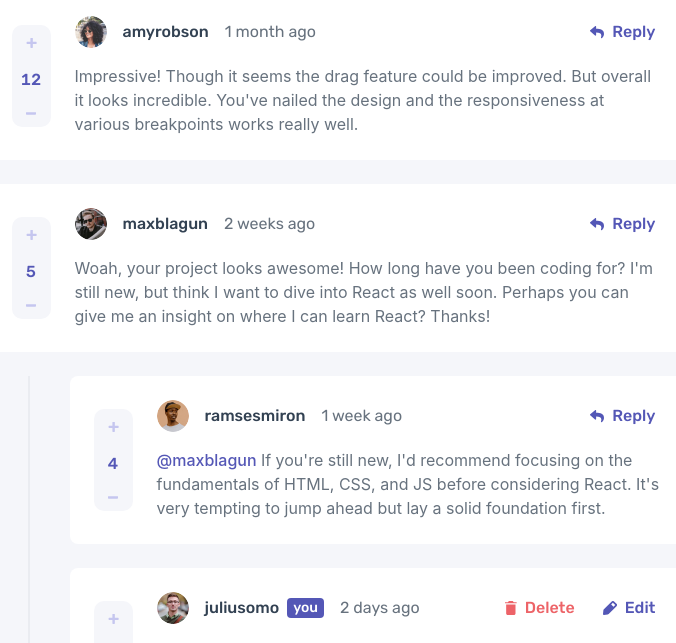
Test: App › upvoting twice undoes the vote
Click the button named "Upvote" next to "amyrobson": [31, 42] box [20,33,42,52]
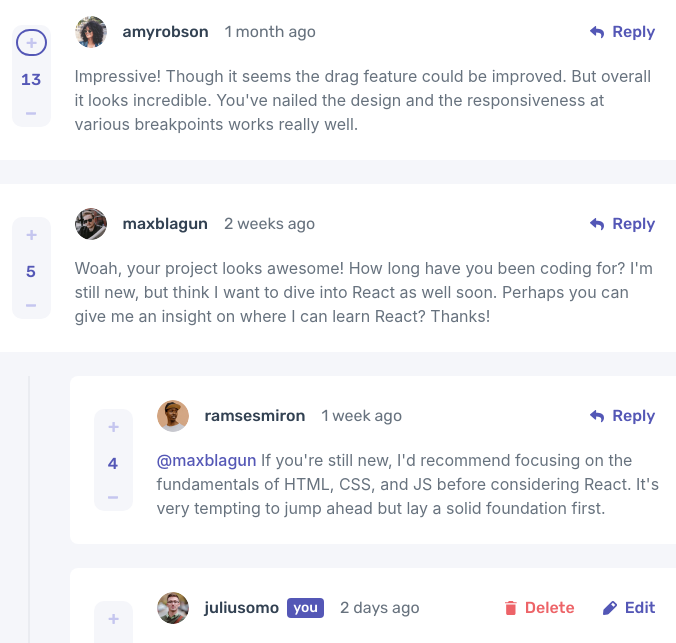
Expected: the text "13" is shown, [20,68,42,92]
Click the button named "Upvote" next to "amyrobson": [31, 42] box [20,33,42,52]
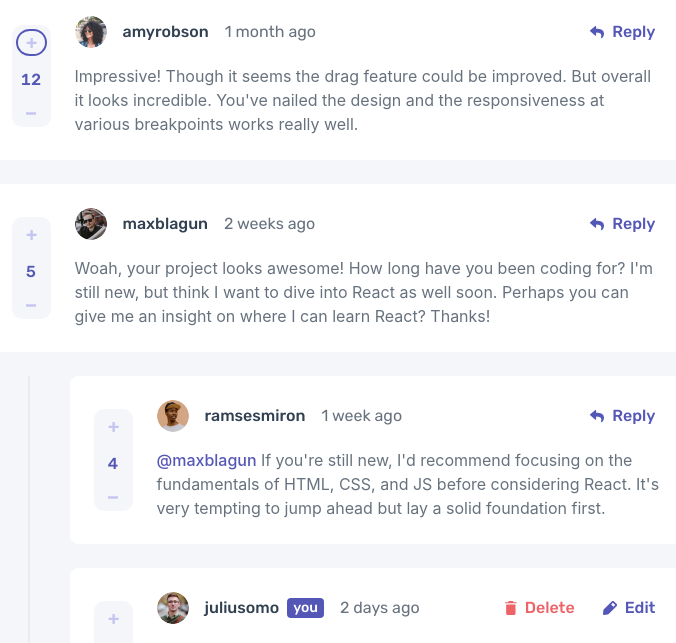
Expected: the text "12" is shown, [20,68,42,92]
